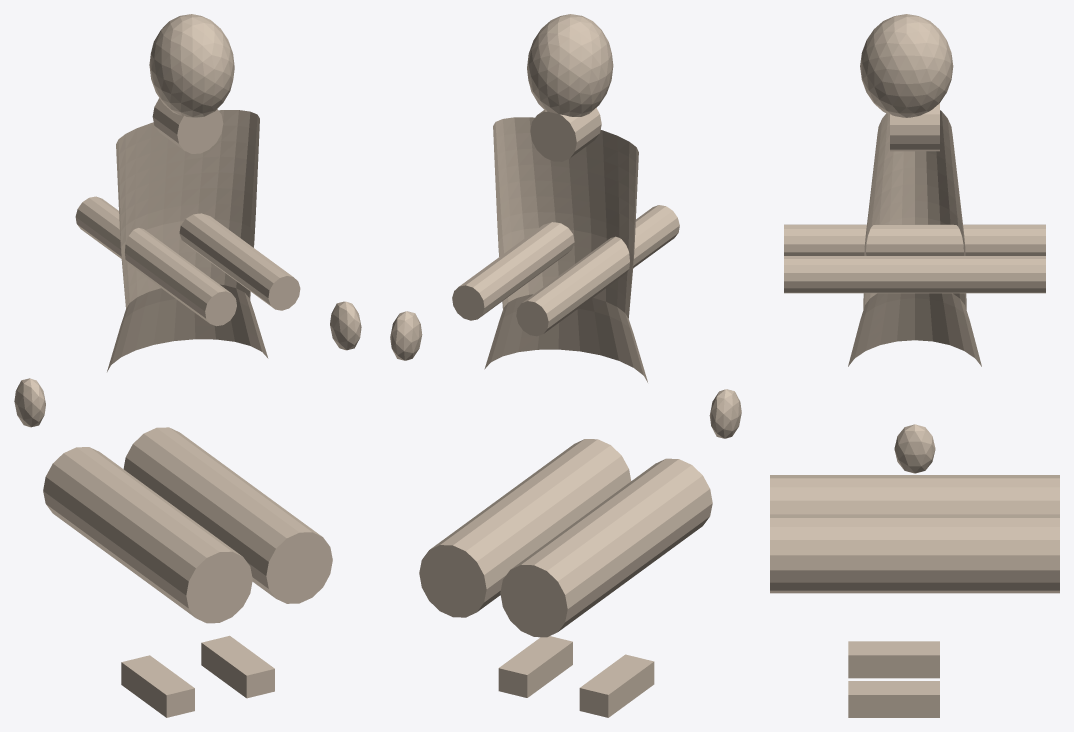
File: base_avatar_15ffbf1e6f.glb
3 views of the same model, side by side, from view 1: azimuth 30°, elevation 25°; view 2: azimuth 150°, elevation 25°; view 3: azimuth 270°, elevation 25° (orthographic).
Parts seen in each view (by area): view 1: body_mesh; view 2: body_mesh; view 3: body_mesh.
Boxes of the visible parts, x1,y1,x2,y2 form: body_mesh: (14, 14, 361, 717); body_mesh: (390, 14, 741, 717); body_mesh: (770, 14, 1059, 717).
Size of the model in its own units: 0.9564 by 1.79 by 0.6972.
